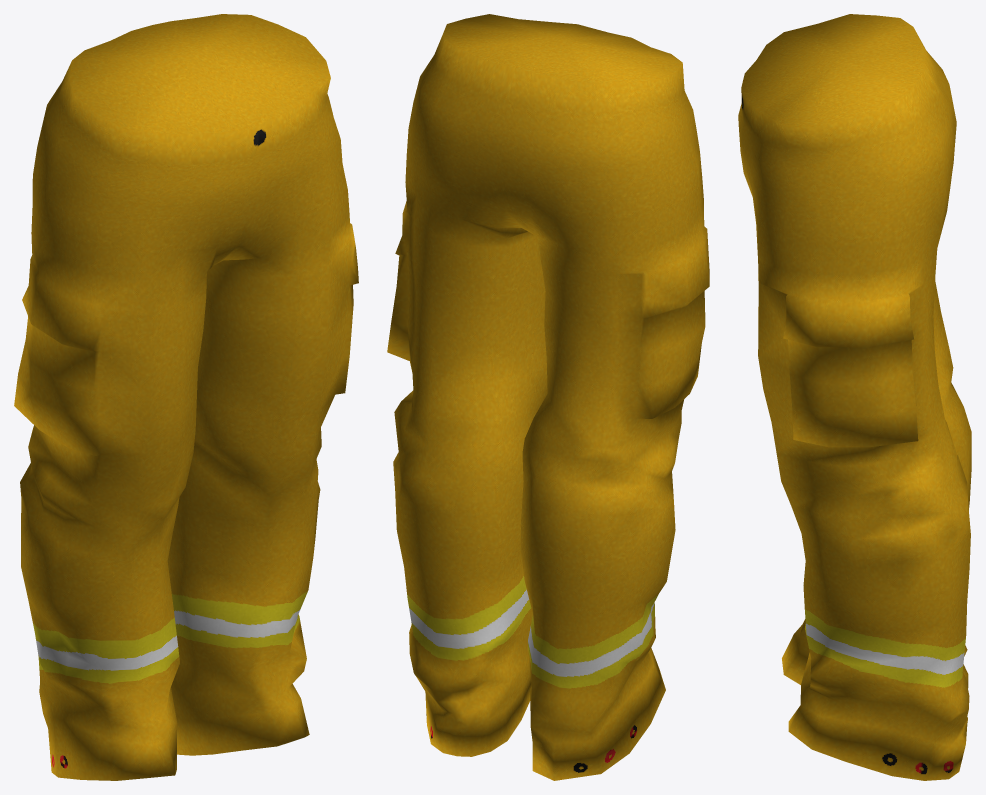
The model's file is Fire_Fighter_Bottom.fbx.
3 views of the same model, side by side, from view 1: azimuth 30°, elevation 25°; view 2: azimuth 150°, elevation 25°; view 3: azimuth 270°, elevation 25° (orthographic). The views are drawn at different scales.
Visible parts, largest first — view 1: Bottoms; view 2: Bottoms; view 3: Bottoms.
Boxes of the visible parts, <box> form: Bottoms: <box>14,14,358,780</box>; Bottoms: <box>387,14,709,780</box>; Bottoms: <box>738,14,971,780</box>.
Size of the model in its own units: 0.4578 by 1.06 by 0.3253.
1 material, 1 textured.
